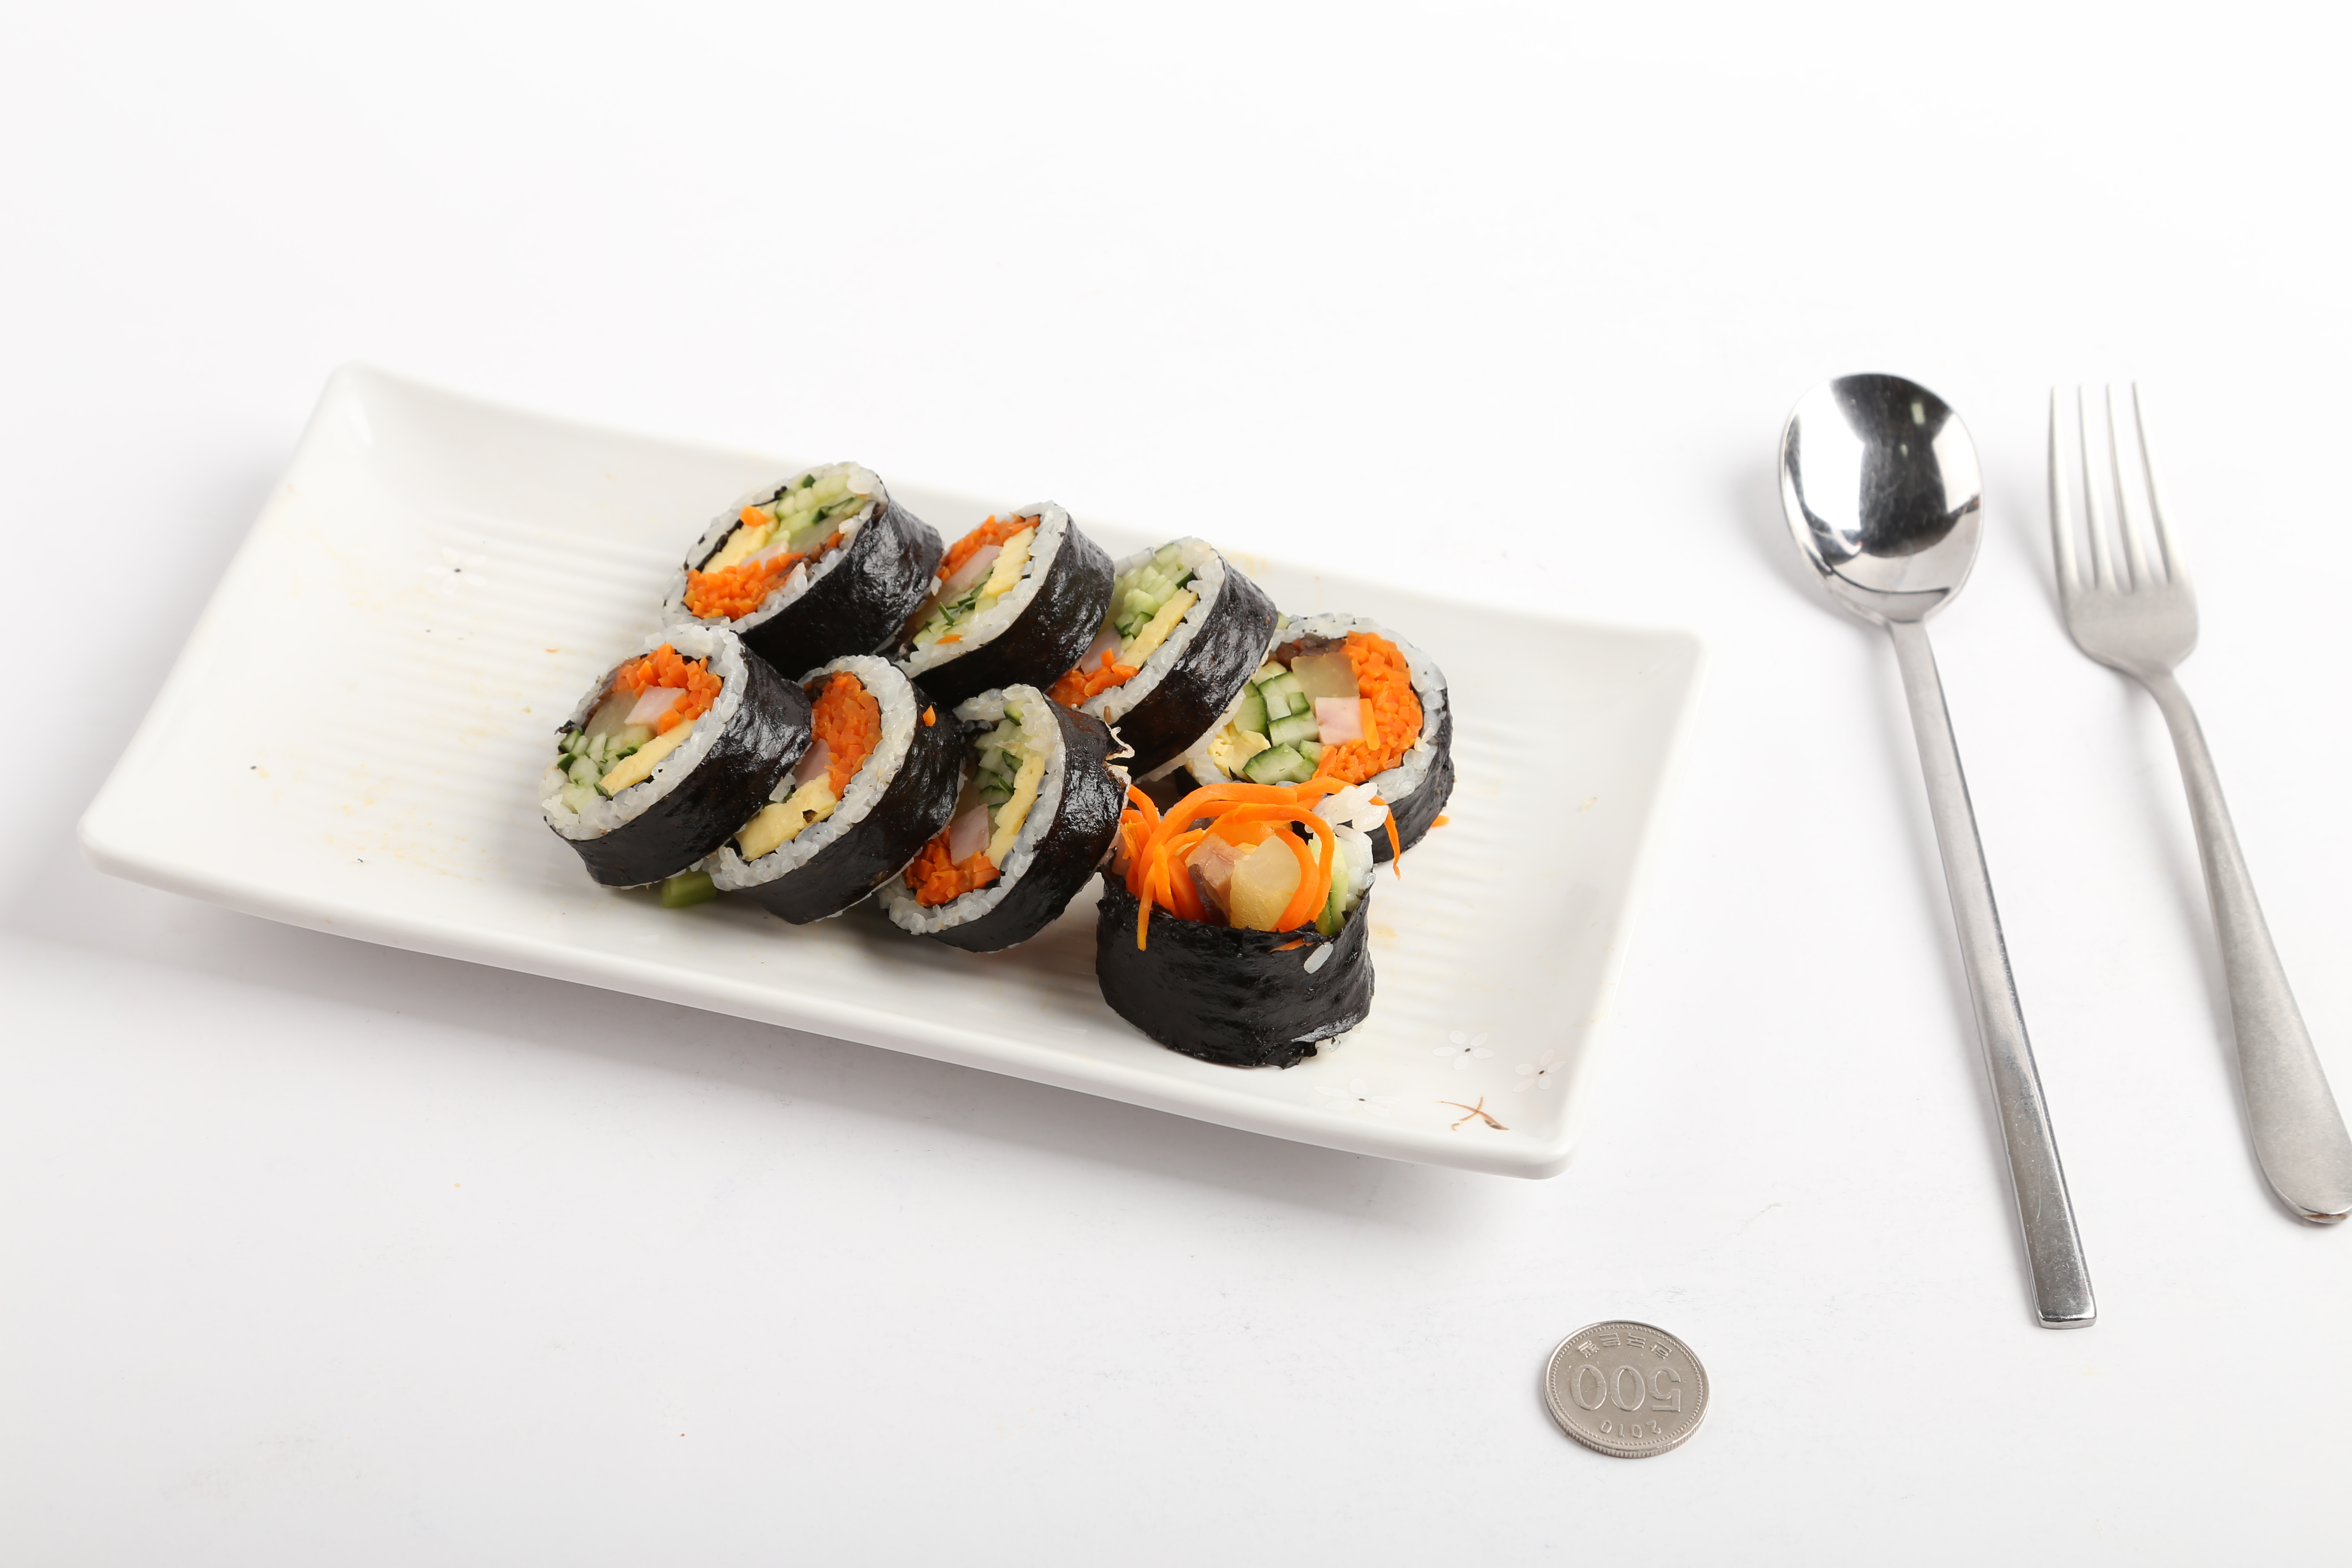dish: (72, 355, 1708, 1181)
ref_coin: (1531, 1307, 1715, 1465)
ref_fork: (2039, 360, 2205, 754)
ref_spoon: (1773, 327, 1986, 682)
김밥: (530, 455, 1459, 1071)
